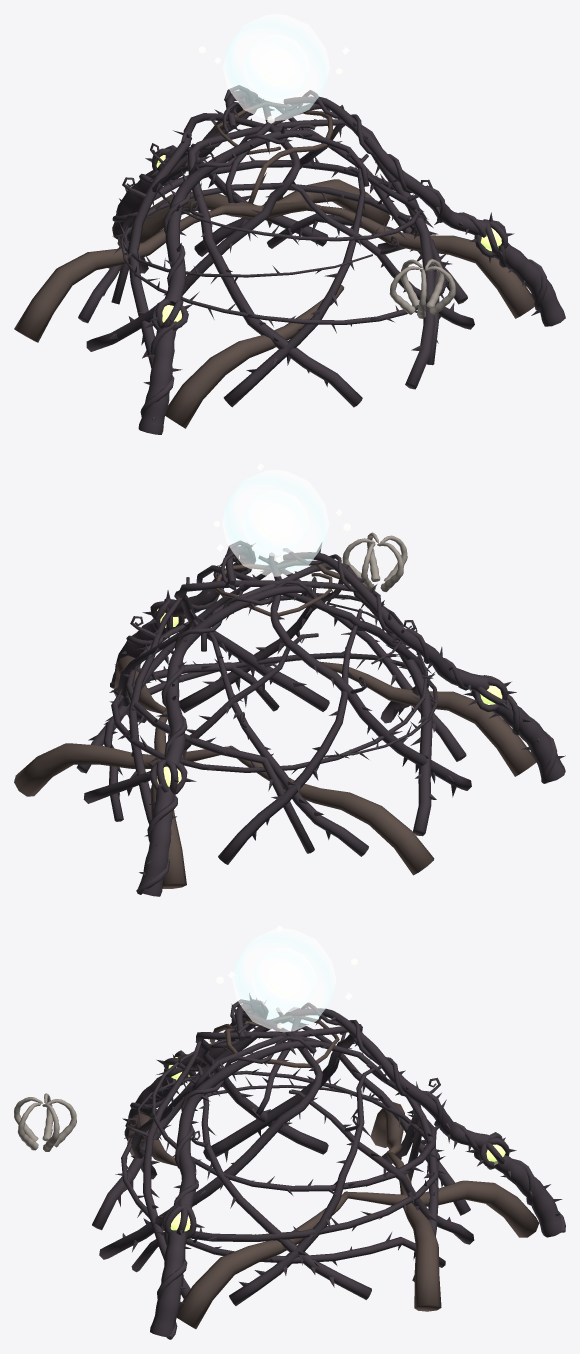
The model's file is ClaroInteractivos.glb.
The picture shows the model from 3 angles, top to bottom: view 1: azimuth 30°, elevation 25°; view 2: azimuth 150°, elevation 25°; view 3: azimuth 270°, elevation 25°; orthographic projection. The views are drawn at different scales.
Parts seen in each view (by area): view 1: ZarzaTalloC, ZarzaTalloA, HadaLuzLejana, ZarzaToconB, ZarzaTalloB, ZarzaToconC, ZarzaToconA, ZarzaNudoC, ZarzaNudoA; view 2: ZarzaTalloC, ZarzaTalloB, ZarzaTalloA, ZarzaToconB, HadaLuzLejana, ZarzaToconC, ZarzaToconA, ZarzaNudoB, ZarzaNudoC, ZarzaNudoA; view 3: ZarzaTalloA, ZarzaTalloC, ZarzaTalloB, ZarzaToconB, HadaLuzLejana, ZarzaToconA, ZarzaToconC, ZarzaNudoA, ZarzaNudoB.
Part boxes in pixels (x1,y1,x2,y2): ZarzaTalloC: (86, 97, 421, 407); ZarzaTalloA: (120, 90, 486, 389); HadaLuzLejana: (199, 14, 349, 123); ZarzaToconB: (14, 168, 390, 342); ZarzaTalloB: (78, 85, 443, 365); ZarzaToconC: (138, 285, 344, 434); ZarzaToconA: (319, 205, 565, 326); ZarzaNudoC: (143, 298, 192, 330); ZarzaNudoA: (469, 212, 514, 263); ZarzaTalloC: (125, 543, 489, 853); ZarzaTalloB: (83, 577, 427, 864); ZarzaTalloA: (76, 540, 437, 821); ZarzaToconB: (14, 708, 434, 896); HadaLuzLejana: (214, 463, 350, 576); ZarzaToconC: (320, 661, 565, 783); ZarzaToconA: (110, 618, 166, 713); ZarzaNudoB: (143, 759, 196, 794); ZarzaNudoC: (463, 675, 516, 711); ZarzaNudoA: (142, 590, 186, 638); ZarzaTalloA: (99, 1012, 445, 1305); ZarzaTalloC: (92, 993, 436, 1230); ZarzaTalloB: (131, 1003, 489, 1281); ZarzaToconB: (344, 1102, 565, 1311); HadaLuzLejana: (216, 925, 357, 1032); ZarzaToconA: (150, 1191, 348, 1339); ZarzaToconC: (122, 1068, 179, 1165); ZarzaNudoA: (155, 1198, 204, 1239); ZarzaNudoB: (465, 1132, 516, 1168).
Bounding box in the file's own units: 4.72 × 3.31 × 5.3.
